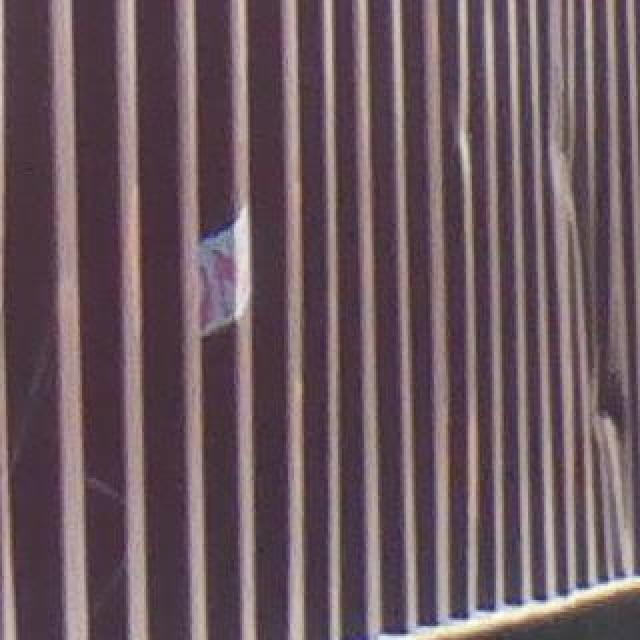dent: (553, 53, 599, 277), (583, 321, 640, 471)
